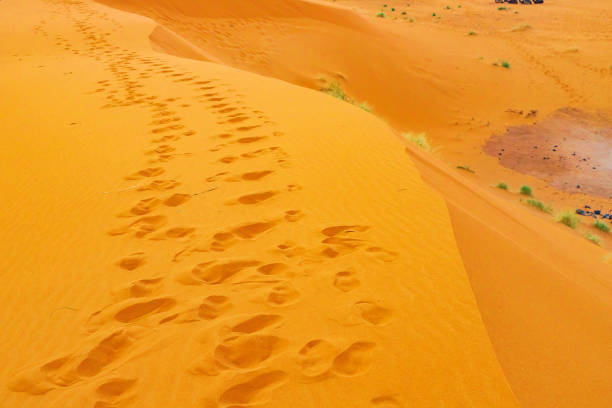human_foot_print: (91, 50, 366, 405), (8, 329, 134, 394), (189, 314, 288, 375), (173, 218, 280, 261), (189, 334, 288, 375), (296, 339, 375, 379), (87, 296, 177, 328), (320, 225, 397, 261), (213, 334, 287, 369), (218, 370, 288, 405), (158, 294, 233, 324), (236, 272, 300, 307), (176, 259, 260, 284), (296, 339, 338, 377), (331, 341, 376, 376), (108, 215, 167, 237), (94, 377, 136, 407), (112, 277, 164, 301), (229, 313, 282, 333), (353, 300, 392, 325), (266, 281, 299, 306), (119, 197, 161, 216), (206, 170, 273, 181), (226, 190, 278, 204), (333, 269, 360, 291), (117, 252, 145, 270), (137, 179, 179, 191), (125, 167, 163, 179), (370, 394, 403, 407), (163, 193, 191, 206)
